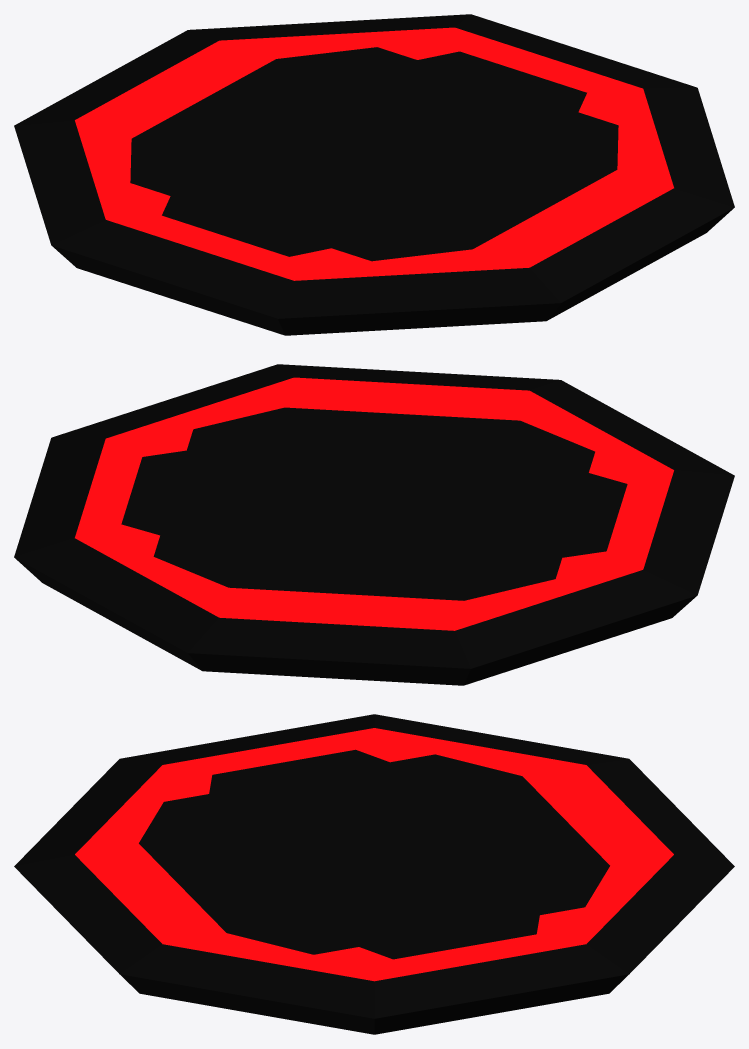
The model's file is platform normal low poly sci-fi.fbx.
The picture shows the model from 3 angles, top to bottom: view 1: azimuth 30°, elevation 25°; view 2: azimuth 150°, elevation 25°; view 3: azimuth 270°, elevation 25°; orthographic projection. The views are drawn at different scales.
Visible parts, largest first — view 1: Cylinder; view 2: Cylinder; view 3: Cylinder.
Part boxes in pixels (x1,y1,x2,y2): Cylinder: (14,14,734,335); Cylinder: (14,364,734,685); Cylinder: (14,714,734,1034).
Bounding box in the file's own units: 3.12 × 0.1901 × 3.12.
